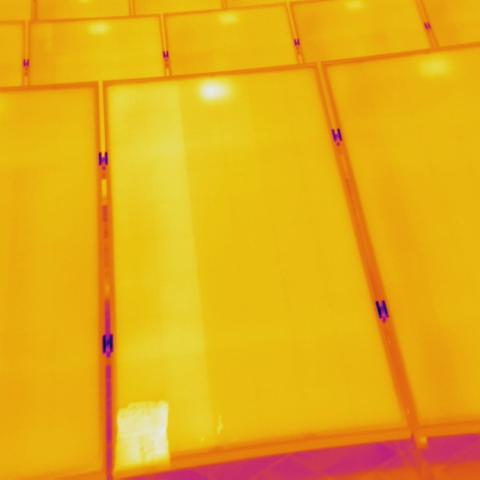fault: (115, 398, 174, 469), (196, 80, 231, 107)
